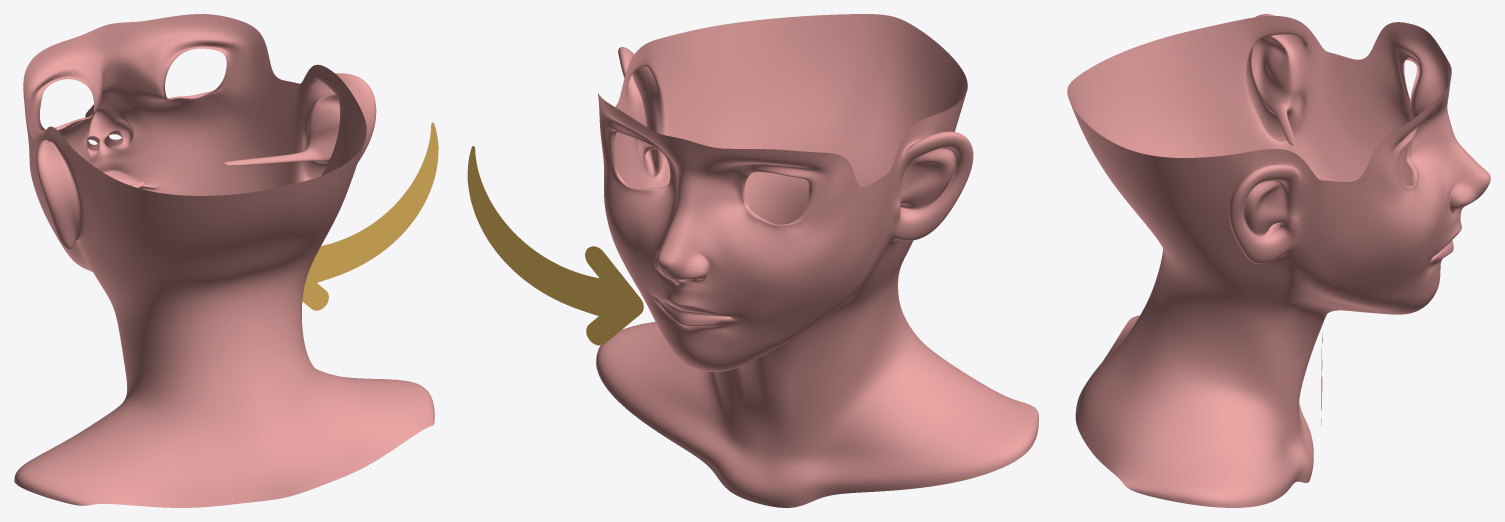
The model's file is neck.fbx.
3 renders of one model, left to right at view 1: azimuth 30°, elevation 25°; view 2: azimuth 150°, elevation 25°; view 3: azimuth 270°, elevation 25°, orthographic. The views are drawn at different scales.
Visible parts, largest first — view 1: arrow-right; view 2: arrow-right; view 3: arrow-right.
Part boxes in pixels (<box>): arrow-right: <box>14,14,438,507</box>; arrow-right: <box>467,14,1038,507</box>; arrow-right: <box>1067,14,1490,507</box>.
Bounding box in the file's own units: 1450 × 1156 × 1106.
Materials: 2 (1 with a texture image).
